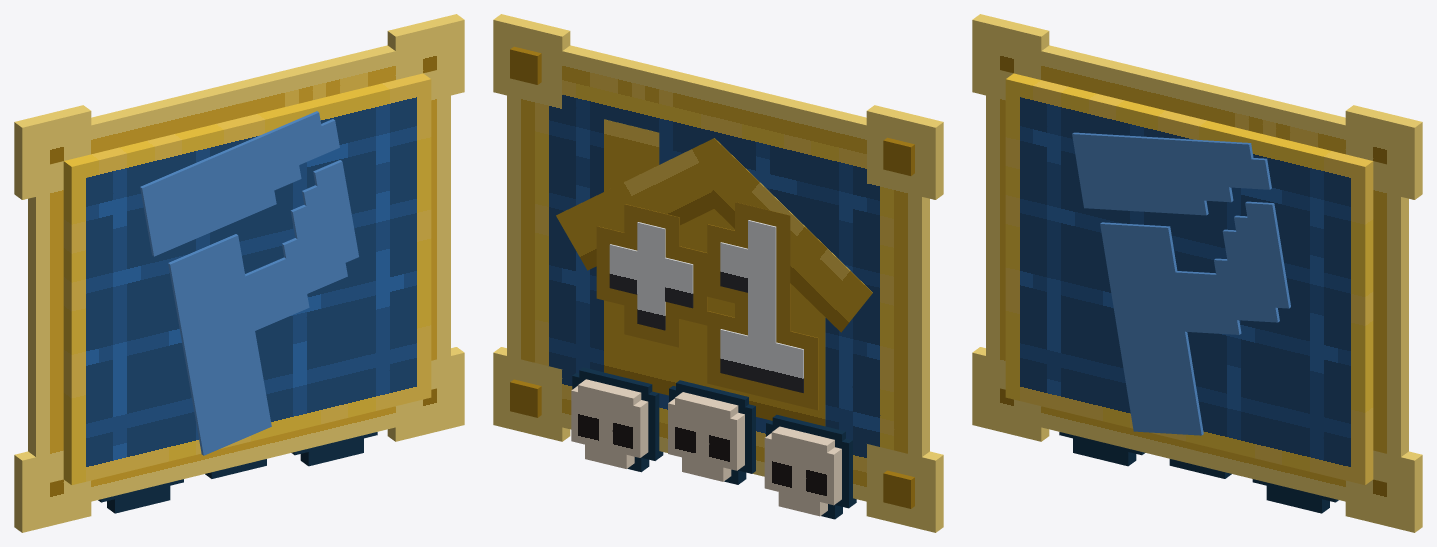
3 renders of one model, left to right at view 1: azimuth 30°, elevation 25°; view 2: azimuth 150°, elevation 25°; view 3: azimuth 330°, elevation 25°, orthographic.
Parts seen in each view (by area): view 1: plan-Local, backp-Local, skull03-Local, skull02-Local; view 2: plan-Local, icon_border-Local, icon-Local, house_body-Local, house_roof_2-Local, skull02-Local, skull03-Local, skull01-Local, house_roof_1-Local, dots-Local; view 3: plan-Local, backp-Local, skull02-Local, skull03-Local.
Boxes of the visible parts, <box> form: plan-Local: <box>14,14,464,532</box>; backp-Local: <box>140,111,358,455</box>; skull03-Local: <box>98,479,183,513</box>; skull02-Local: <box>291,432,377,466</box>; plan-Local: <box>493,14,943,532</box>; icon_border-Local: <box>596,202,818,410</box>; icon-Local: <box>609,220,803,392</box>; house_body-Local: <box>604,119,825,426</box>; house_roof_2-Local: <box>698,138,872,332</box>; skull02-Local: <box>571,367,663,472</box>; skull03-Local: <box>764,414,856,519</box>; skull01-Local: <box>668,380,755,484</box>; house_roof_1-Local: <box>556,138,720,270</box>; dots-Local: <box>510,46,914,508</box>; plan-Local: <box>972,14,1422,532</box>; backp-Local: <box>1072,132,1290,435</box>; skull02-Local: <box>1252,479,1338,513</box>; skull03-Local: <box>1059,432,1145,466</box>.
Bounding box in the file's own units: 64 × 57 × 7.52.
Materials: 11 (11 with a texture image).
